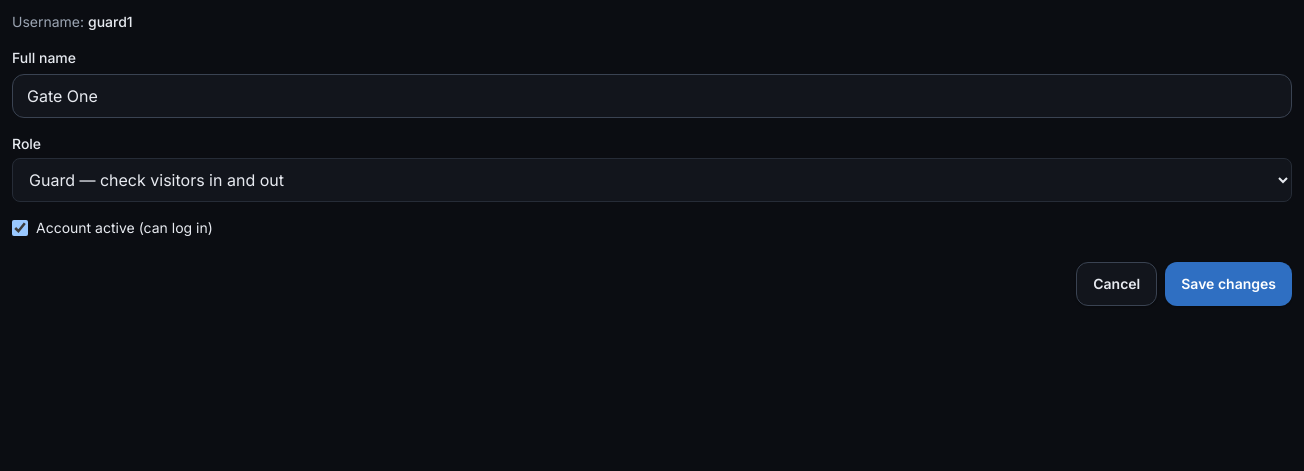
Test: EditUserForm › warns before disabling an account
Click the checkbox labelled "Account active (can log in)".
click(20, 228)  # box [12,220,28,236]
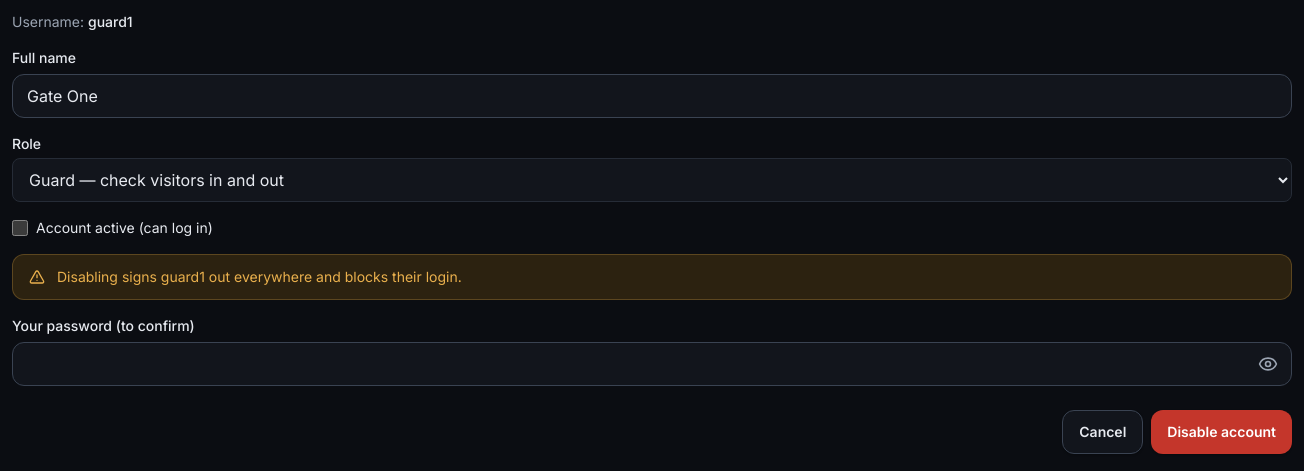
Check: the text "signs guard1 out everywhere" is shown, box [57,268,462,285]
Check: the button "Disable account" is shown, box [1151,410,1292,454]
